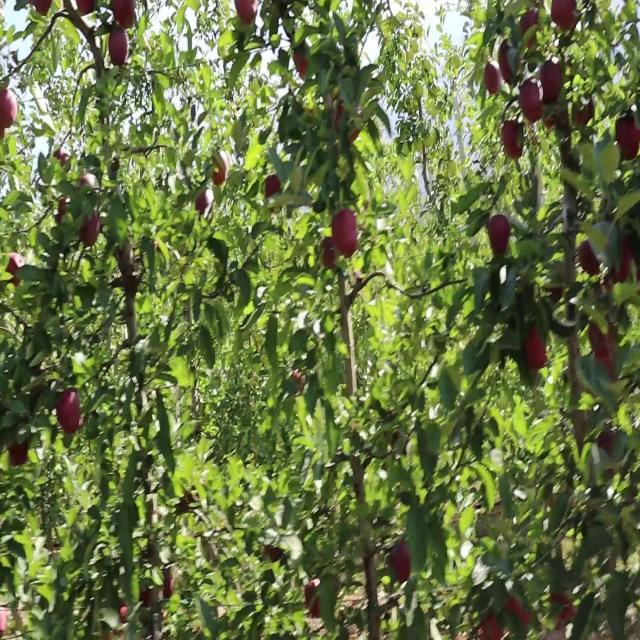apple: (588, 319, 618, 380), (488, 42, 515, 98), (332, 213, 360, 258), (540, 56, 565, 105), (616, 113, 640, 164), (56, 391, 83, 436), (520, 78, 544, 126), (144, 575, 176, 610), (524, 327, 548, 373), (500, 120, 525, 164), (488, 213, 512, 258), (336, 106, 361, 148), (520, 7, 542, 52), (616, 234, 635, 286), (552, 1, 578, 36), (392, 540, 412, 585), (504, 597, 532, 629), (108, 28, 129, 69), (552, 597, 577, 631), (580, 241, 601, 279), (152, 575, 176, 608), (80, 213, 101, 249), (572, 99, 596, 130), (600, 426, 617, 468), (500, 42, 515, 89), (112, 1, 136, 30), (0, 92, 19, 128), (320, 234, 339, 270), (544, 106, 568, 133), (236, 0, 259, 28), (484, 63, 502, 98), (304, 583, 321, 619), (8, 440, 29, 469), (484, 611, 505, 638), (212, 156, 229, 187), (8, 255, 23, 286), (160, 575, 176, 604), (76, 0, 96, 20), (296, 49, 309, 78), (264, 177, 281, 199), (196, 191, 210, 217), (32, 0, 52, 18), (56, 199, 68, 226), (264, 547, 283, 564), (292, 369, 305, 393), (56, 149, 69, 169), (120, 604, 129, 626), (0, 124, 5, 142)
